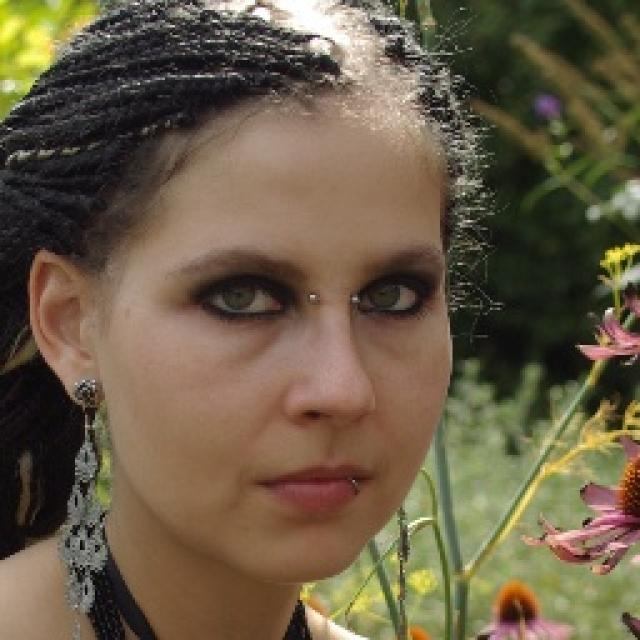earlobe: (70, 354, 107, 410)
eye: (191, 276, 285, 317), (355, 275, 423, 313)
nose: (280, 405, 395, 466)
wholeear: (27, 249, 108, 410)
